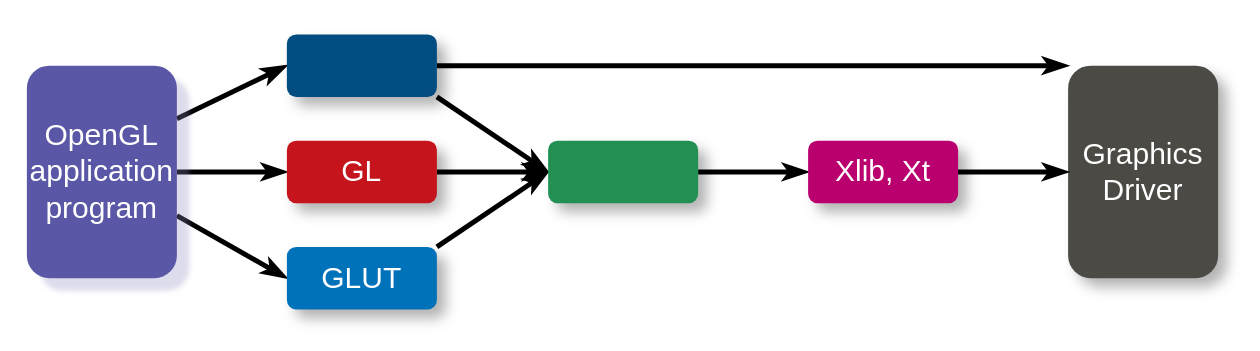
Image size: 1260x351. Some labels were removed from this diagram. Each missing label, with the centre of its shape:
GLEW: pixel 366 69
GLX: pixel 627 176
